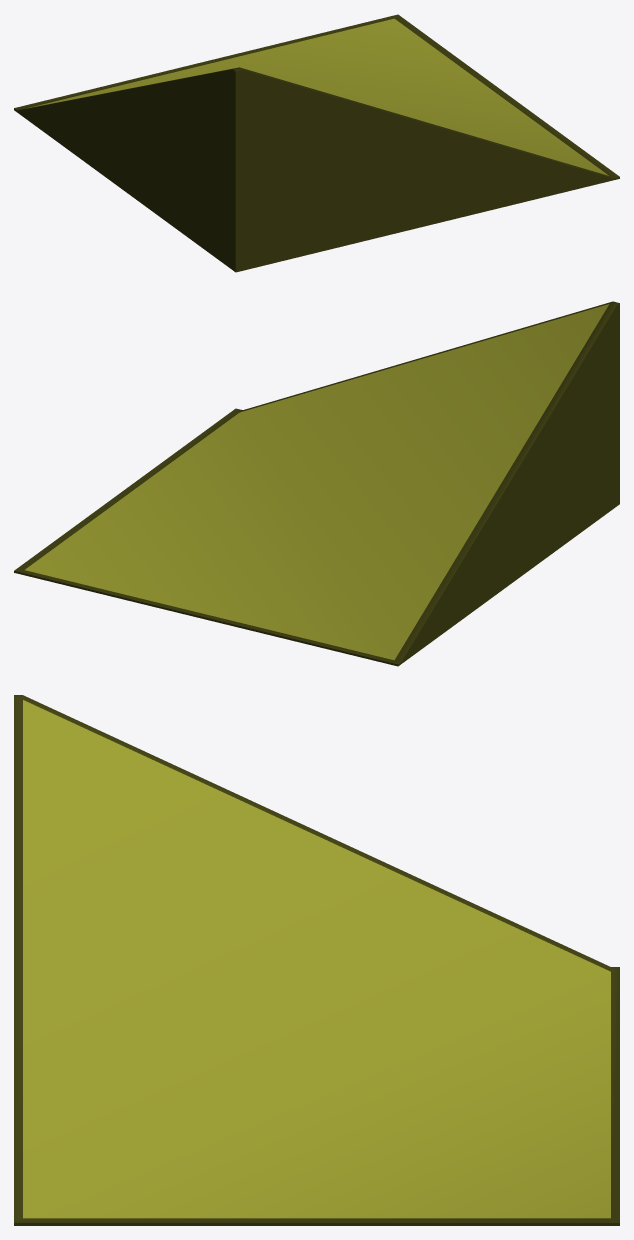
File: Casilla 47.fbx
The picture shows the model from 3 angles, top to bottom: view 1: azimuth 30°, elevation 25°; view 2: azimuth 150°, elevation 25°; view 3: azimuth 270°, elevation 25°; orthographic projection. The views are drawn at different scales.
Parts seen in each view (by area): view 1: pCube6; view 2: pCube6; view 3: pCube6.
Part boxes in pixels (x1,y1,x2,y2): pCube6: [14, 14, 619, 272]; pCube6: [14, 301, 619, 666]; pCube6: [14, 695, 619, 1225].
Bounding box in the file's own units: 200 × 100 × 200.
